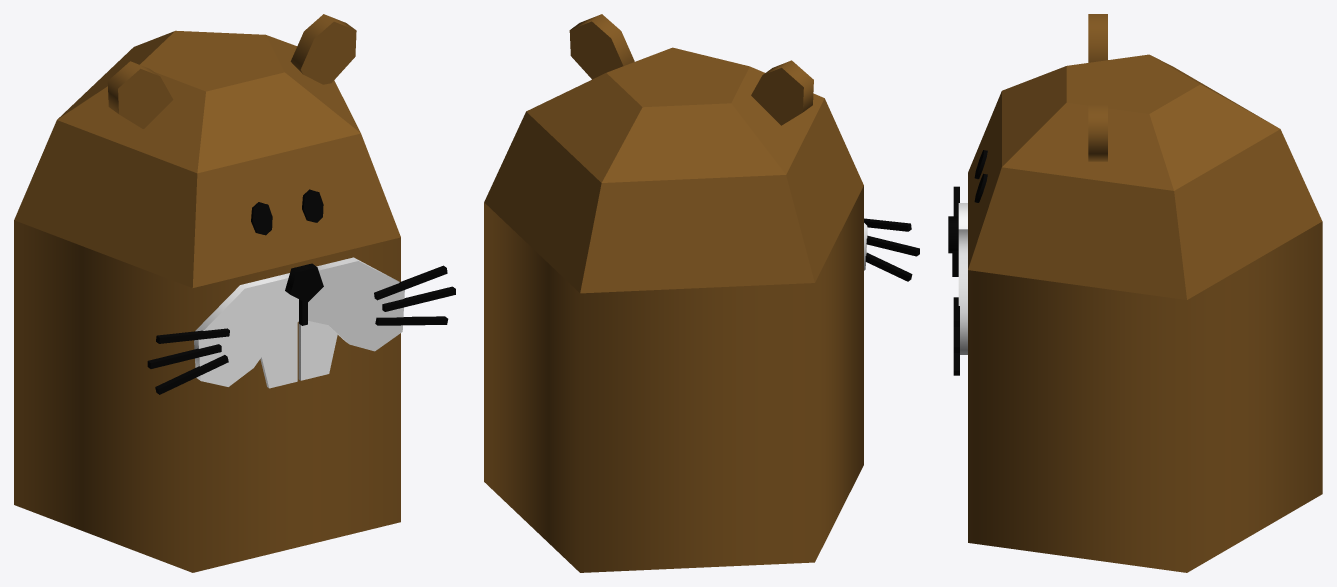
File: mole.fbx
3 renders of one model, left to right at view 1: azimuth 30°, elevation 25°; view 2: azimuth 150°, elevation 25°; view 3: azimuth 270°, elevation 25°, orthographic. The views are drawn at different scales.
Visible parts, largest first — view 1: Cone001, Cone004, Cone003, Cylinder006, Cylinder004, Box009, Box008, Cylinder001, Box002, Box004, Box003, Box006 (+4 smaller); view 2: Cone001, Cylinder006, Cylinder004; view 3: Cone001, Cone003, Cylinder006, Cylinder004.
Part boxes in pixels (x1,y1,x2,y2): Cone001: (14, 30, 400, 572); Cone004: (194, 273, 298, 386); Cone003: (308, 257, 404, 351); Cylinder006: (290, 14, 356, 84); Cylinder004: (107, 61, 173, 128); Box009: (298, 321, 337, 380); Box008: (260, 322, 297, 388); Cylinder001: (285, 263, 323, 302); Box002: (155, 355, 228, 394); Box004: (374, 265, 447, 300); Box003: (147, 344, 221, 368); Box006: (382, 286, 455, 311); Cone001: (484, 47, 863, 572); Cylinder006: (569, 14, 634, 79); Cylinder004: (751, 60, 813, 125); Cone001: (968, 54, 1322, 572); Cone003: (958, 229, 967, 354); Cylinder006: (1088, 104, 1107, 161); Cylinder004: (1088, 14, 1107, 62).
Size of the model in its own units: 18.72 by 24.19 by 18.78.
